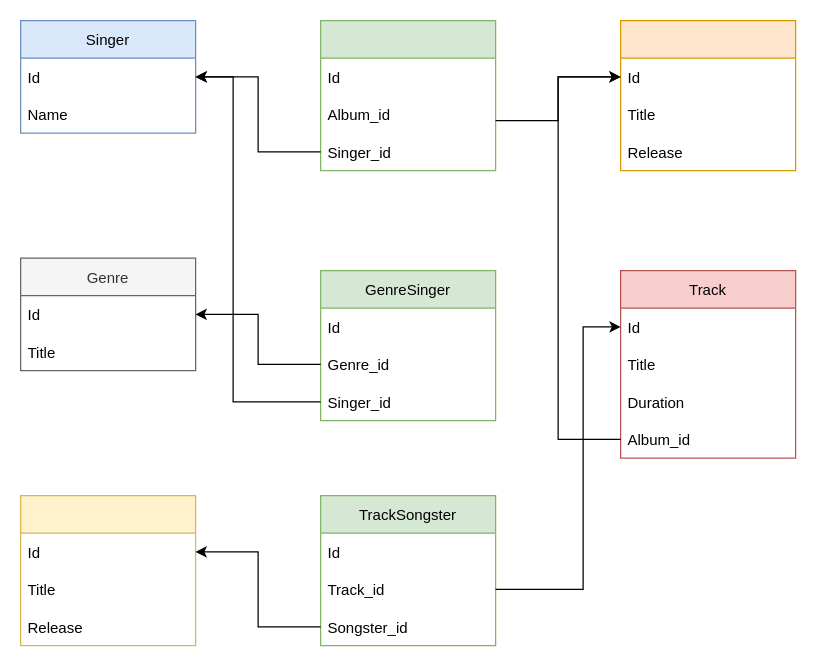
Some shapes in this 816 by 666 pixel diagram are drawn without their labels. The box of each missing label's shape, as (x1, y1, x2, y2) in pixels:
Album: (619, 19, 796, 171)
SingerAlbum: (319, 19, 496, 171)
Songster: (19, 494, 196, 646)
